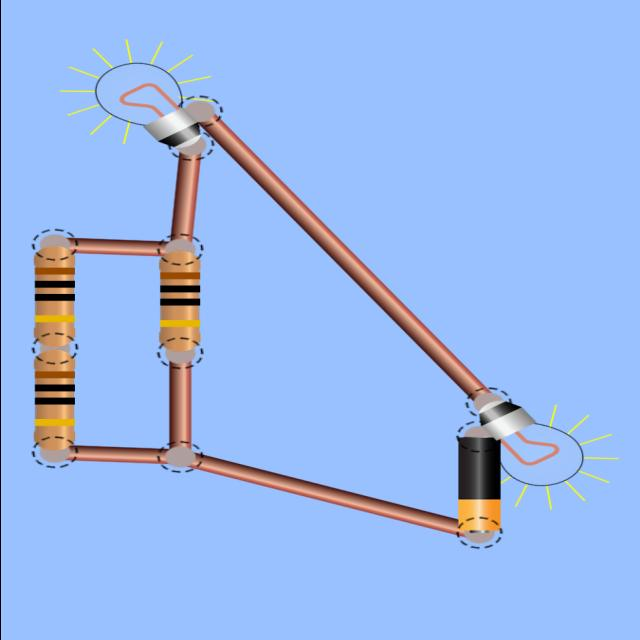Battery: (457, 428, 500, 531)
Light Bulb: (95, 62, 204, 155), (478, 400, 582, 486)
Resistor: (158, 250, 200, 351), (33, 246, 74, 348), (33, 350, 74, 450)
Wire: (199, 116, 487, 399), (189, 454, 458, 535), (171, 152, 199, 240), (68, 445, 165, 464), (170, 362, 191, 448), (74, 239, 165, 256)
